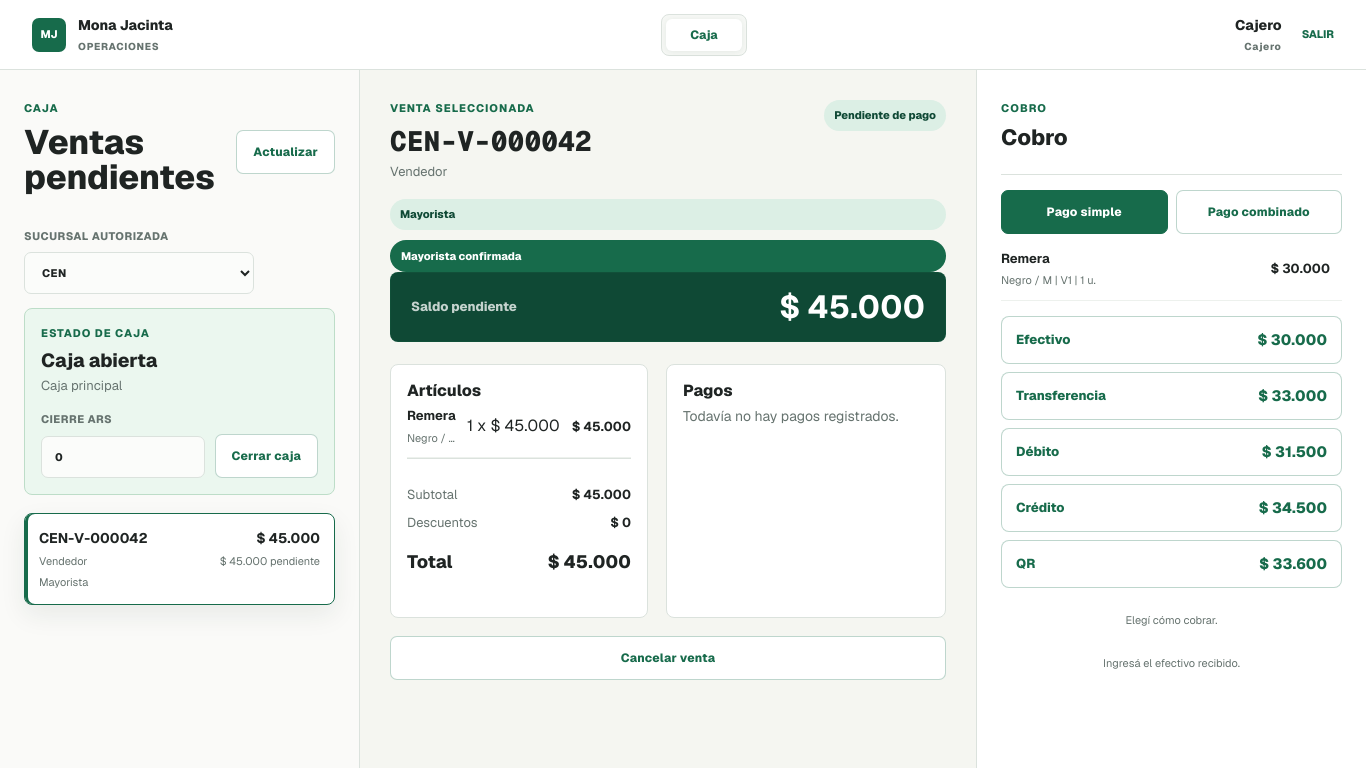
Test: Caja — tipo de cobro › UI-CREDIT-6 mayorista: el precio de Crédito es el que el servidor calcula sobre la lista mayorista
The width and height of the screenshot is (1366, 768).
Expected: the heading "Ventas pendientes" is shown, 24,124 -> 236,196
Expected: the heading "CEN-V-000042" is shown, 390,124 -> 592,157
Click the button "Crédito $ 34.500".
click(1040, 508)  # box 1001,484 -> 1342,532
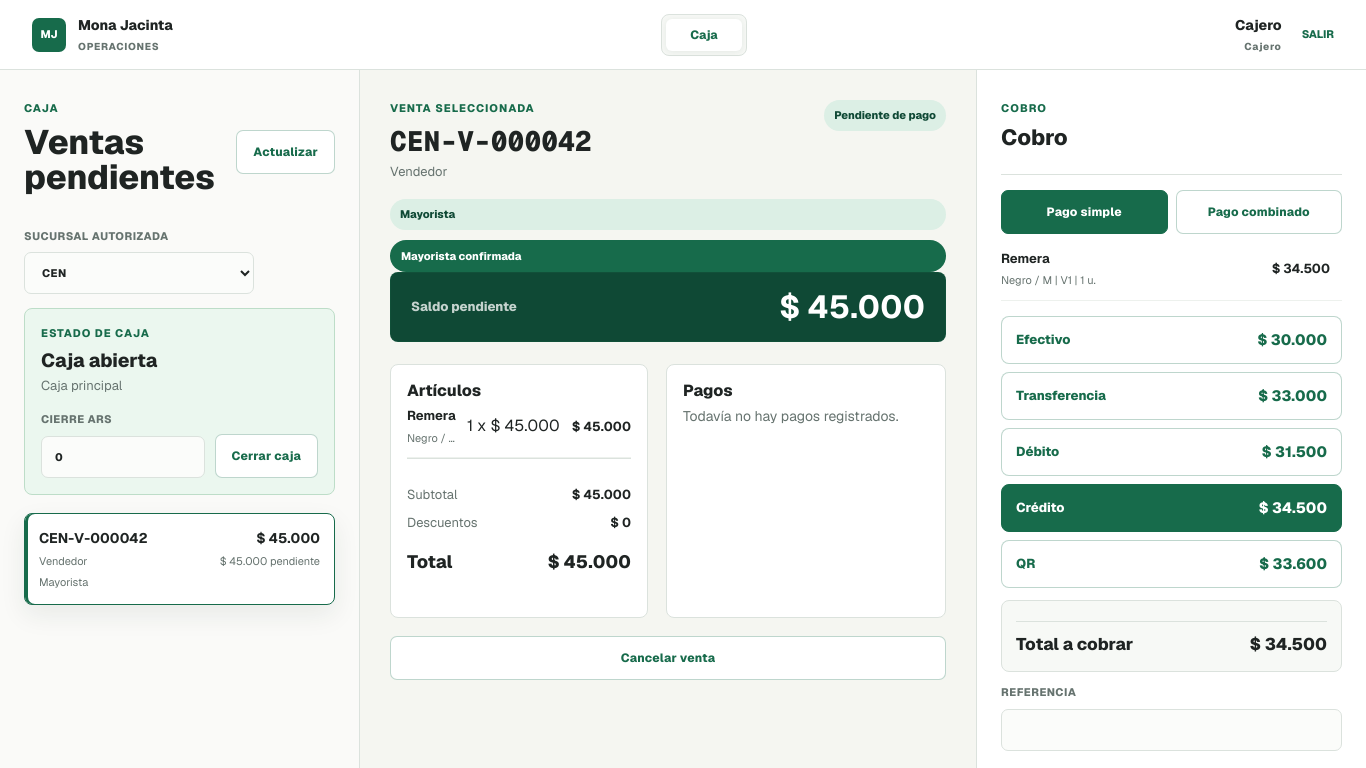
Result: the text with test id "simple-total" shows "34.500" at 1249,633 -> 1327,655
Type "CRD0044" into the field labelled "Referencia".
click(1172, 730); type("CRD0044")  # box 1001,709 -> 1342,751
(page scrolled)
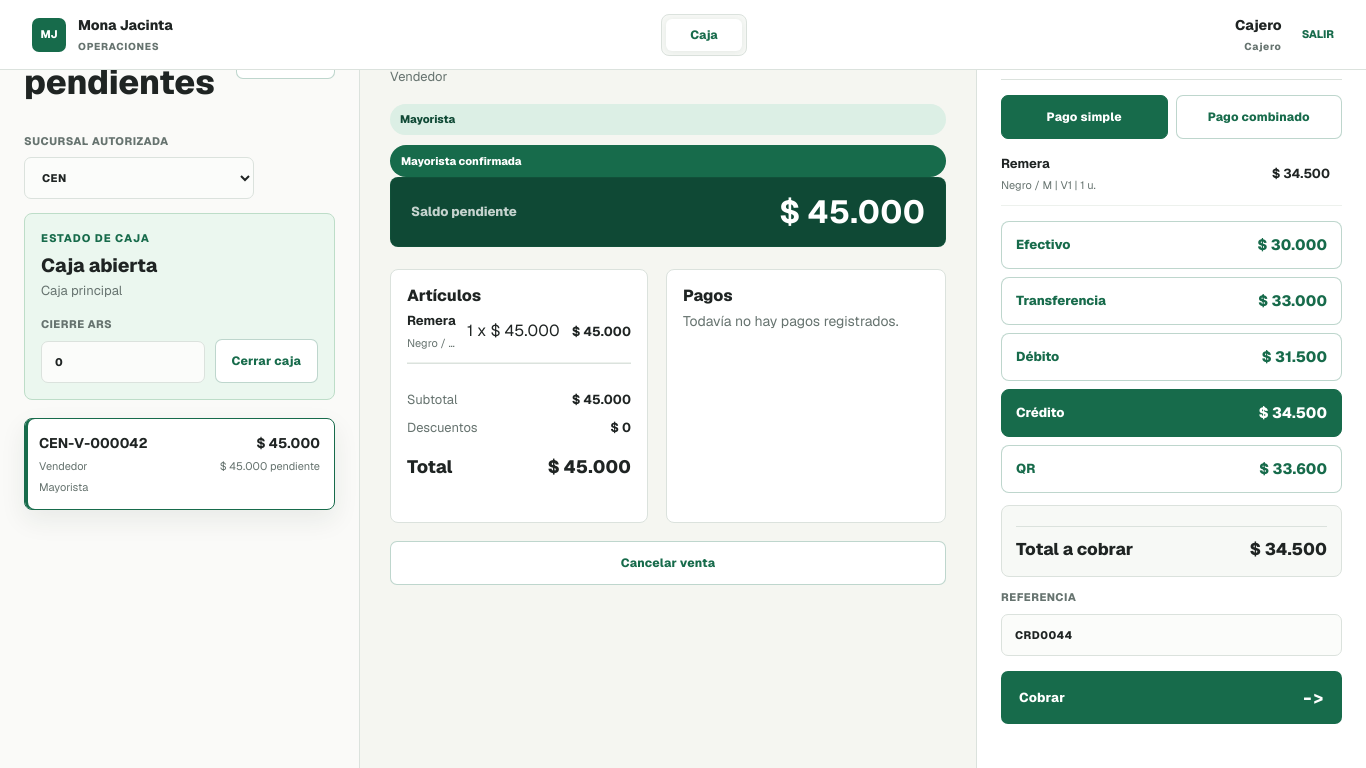
Result: the button "Cobrar ->" is enabled
Click the button "Cobrar ->".
click(1042, 698)  # box 1001,671 -> 1342,724
(page scrolled)
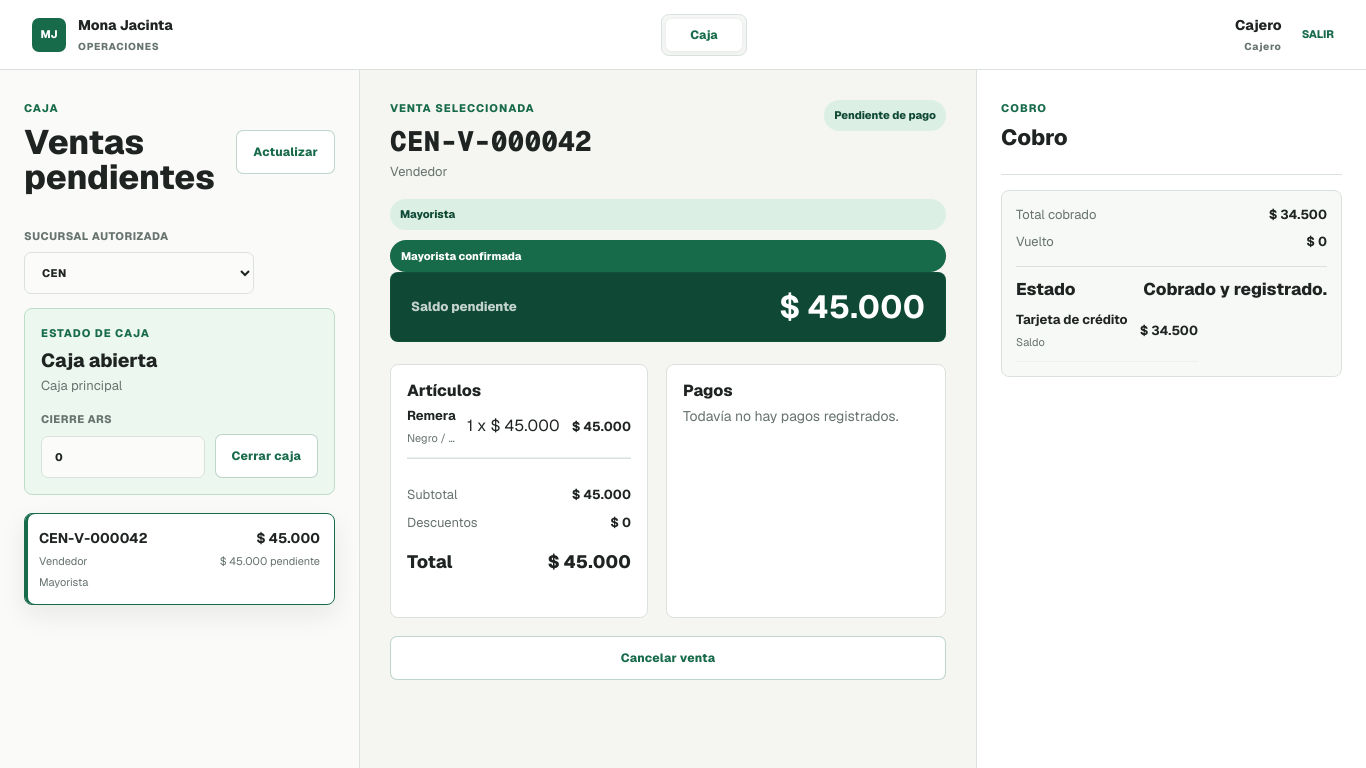
Result: the element with test id "proportional-result" is shown at 1001,190 -> 1342,377
